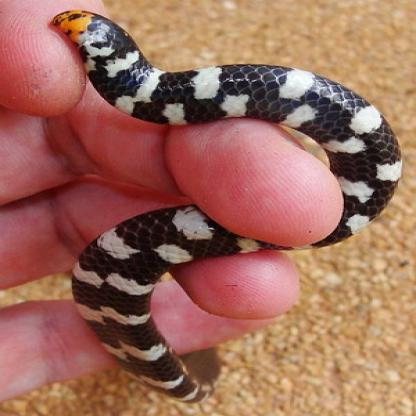Snake: (48, 11, 404, 406)
